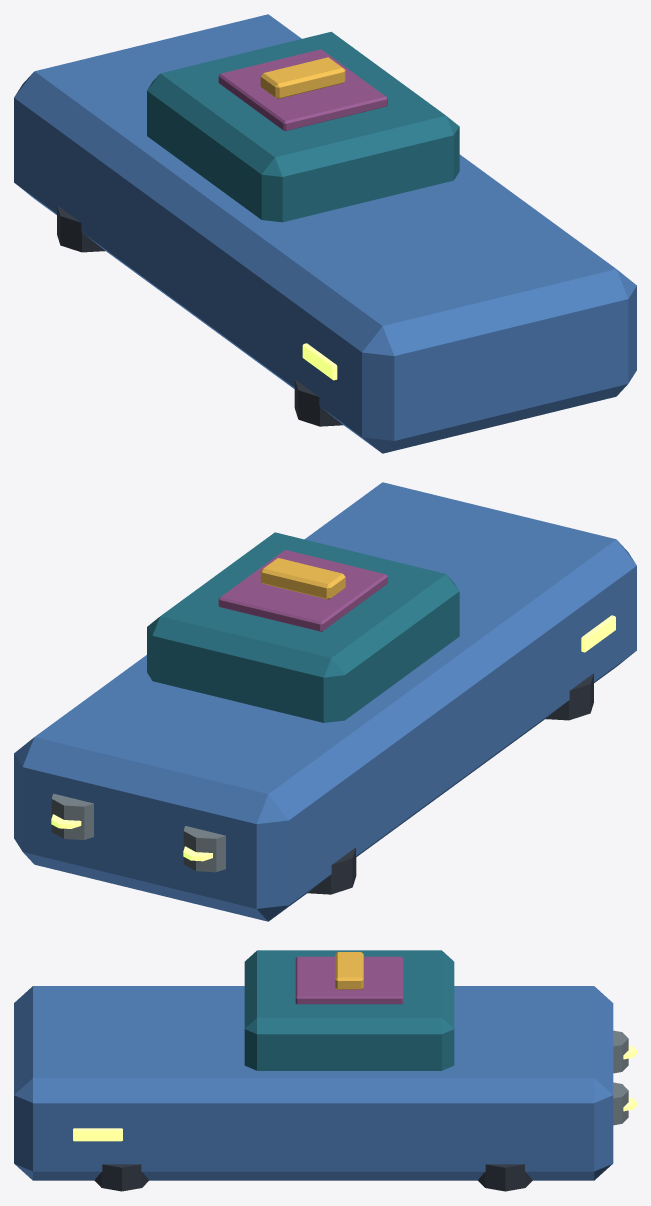
Rendered from vehicles_012_seed11.glb.
3 views of the same model, one above another, from view 1: azimuth 30°, elevation 25°; view 2: azimuth 150°, elevation 25°; view 3: azimuth 270°, elevation 25° (orthographic). The views are drawn at different scales.
Parts seen in each view (by area): view 1: vehicles_012_seed11; view 2: vehicles_012_seed11; view 3: vehicles_012_seed11.
Boxes of the visible parts, bbox=[...] form: vehicles_012_seed11: bbox=[14, 14, 636, 453]; vehicles_012_seed11: bbox=[14, 482, 636, 921]; vehicles_012_seed11: bbox=[14, 950, 636, 1191].
Bounding box in the file's own units: 2.29 × 1.6 × 5.23.
